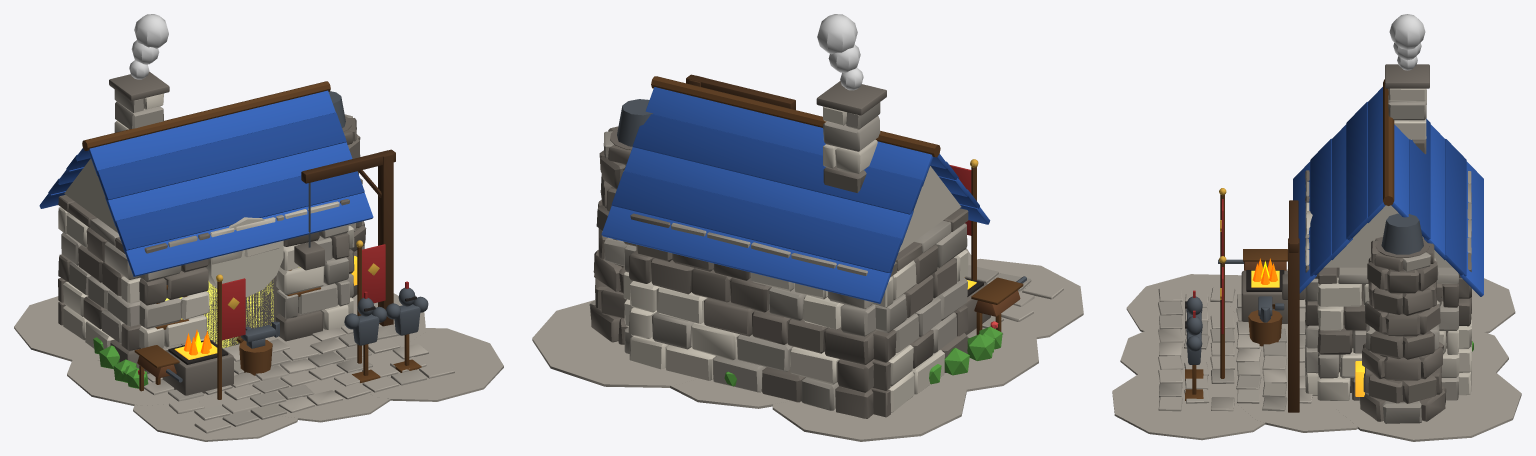
The model's file is kuznia_poz15.glb.
3 renders of one model, left to right at view 1: azimuth 30°, elevation 25°; view 2: azimuth 150°, elevation 25°; view 3: azimuth 270°, elevation 25°, orthographic. The views are drawn at different scales.
Parts seen in each view (by area): view 1: kuznia_poz15; view 2: kuznia_poz15; view 3: kuznia_poz15.
Boxes of the visible parts, box(x1,y1,x2,y2) form: kuznia_poz15: box(14, 14, 503, 441); kuznia_poz15: box(532, 14, 1083, 441); kuznia_poz15: box(1112, 14, 1521, 441).
Size of the model in its own units: 8.62 by 7.33 by 8.64.
